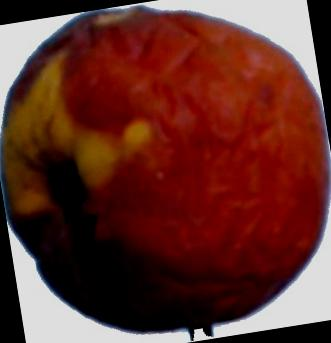Apple Overripe: (0, 0, 331, 329)
